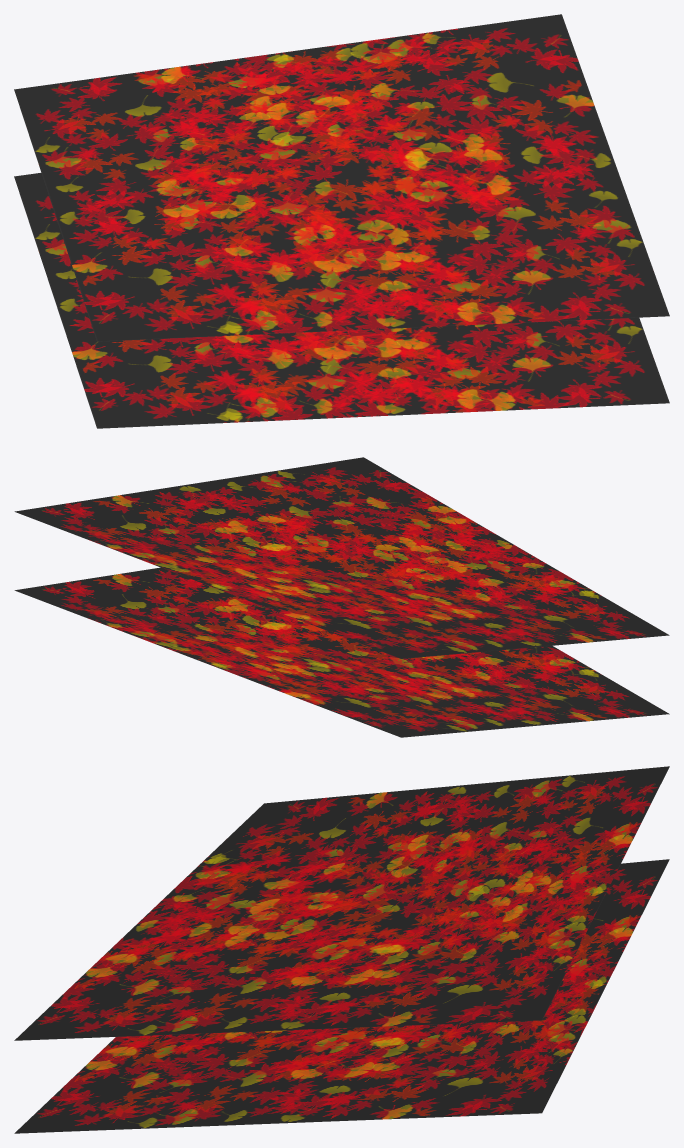
File: CourseAki_CurveFloor_3_22.fbx
3 renders of one model, top to bottom at view 1: azimuth 30°, elevation 25°; view 2: azimuth 150°, elevation 25°; view 3: azimuth 270°, elevation 25°, orthographic. The views are drawn at different scales.
Visible parts, largest first — view 1: polySurface471; view 2: polySurface471; view 3: polySurface471.
Boxes of the visible parts, x1=… form: polySurface471: x1=14, y1=14, x2=669, y2=428; polySurface471: x1=14, y1=457, x2=669, y2=737; polySurface471: x1=14, y1=766, x2=669, y2=1133.
Size of the model in its own units: 7.16 by 2 by 6.4.
1 material, 1 textured.
